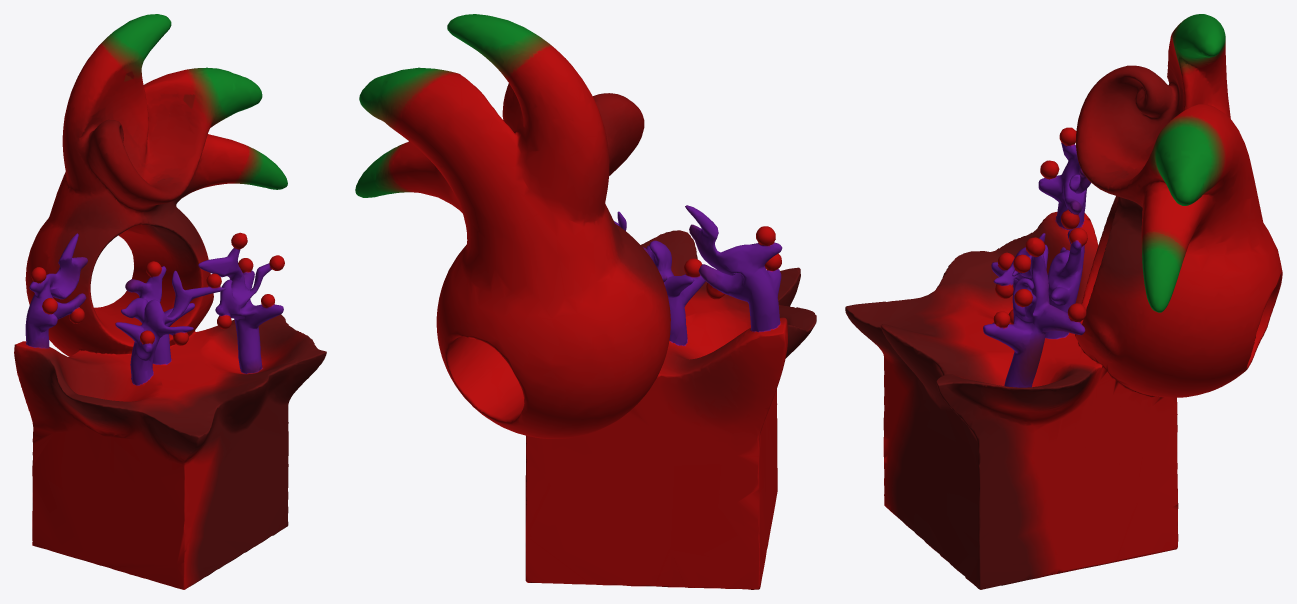
The model's file is osyofv_stage.gltf.
The picture shows the model from 3 angles, left to right: view 1: azimuth 30°, elevation 25°; view 2: azimuth 150°, elevation 25°; view 3: azimuth 270°, elevation 25°; orthographic projection. The views are drawn at different scales.
Visible parts, largest first — view 1: Layer_1.001; view 2: Layer_1.001; view 3: Layer_1.001.
Boxes of the visible parts, x1,y1,x2,y2 form: Layer_1.001: (14,14,326,589); Layer_1.001: (355,14,816,589); Layer_1.001: (845,14,1282,589).
Size of the model in its own units: 48.45 by 68.29 by 50.19.
